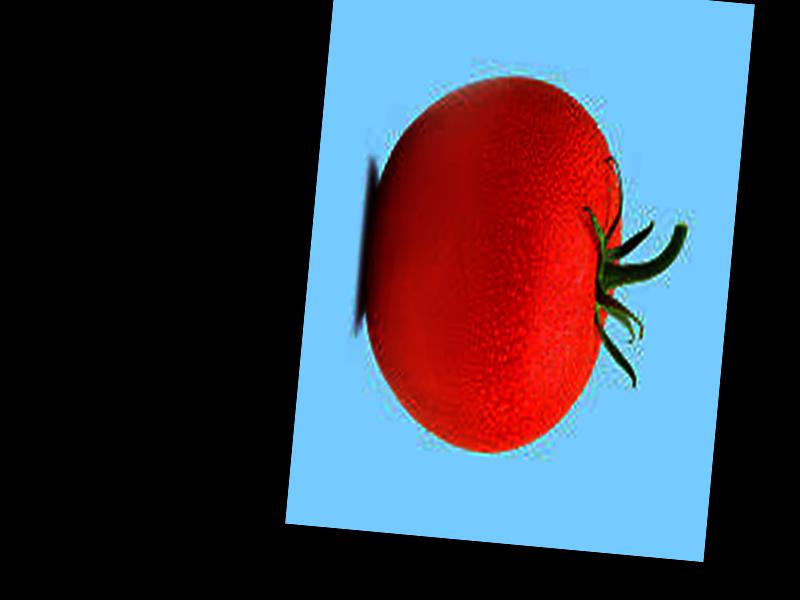Tomato: (354, 67, 632, 463)
